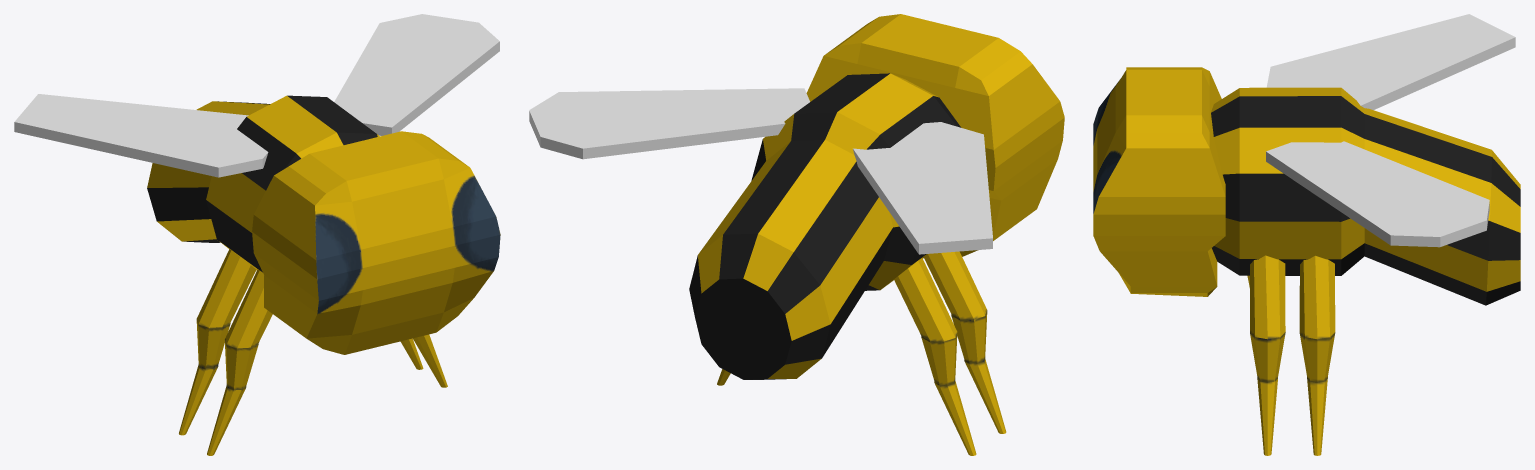
Rendered from navigating_fly.fbx.
3 renders of one model, left to right at view 1: azimuth 30°, elevation 25°; view 2: azimuth 150°, elevation 25°; view 3: azimuth 270°, elevation 25°, orthographic. The views are drawn at different scales.
Visible parts, largest first — view 1: Head, Body, Wing.001, Wing, Leg.002, Leg, Leg.001; view 2: Body, Head, Wing, Wing.001, Leg.002, Leg; view 3: Body, Head, Wing, Wing.001, Leg.001, Leg.003.
Part boxes in pixels (box(x1,y1,x2,y2)): Head: box(252, 131, 500, 354); Body: box(147, 95, 379, 272); Wing.001: box(14, 94, 268, 177); Wing: box(334, 14, 499, 135); Leg.002: box(179, 249, 256, 435); Leg: box(207, 269, 272, 455); Leg.001: box(413, 334, 447, 387); Body: box(689, 73, 961, 379); Head: box(806, 14, 1064, 256); Wing: box(529, 88, 809, 159); Wing.001: box(853, 122, 992, 254); Leg.002: box(894, 258, 976, 455); Leg: box(924, 251, 1006, 433); Body: box(1211, 87, 1520, 305); Head: box(1093, 67, 1225, 296); Wing: box(1266, 141, 1489, 247); Wing.001: box(1266, 14, 1515, 109); Leg.001: box(1250, 255, 1285, 455); Leg.003: box(1299, 255, 1335, 455).
Bounding box in the file's own units: 536 × 347 × 434.
